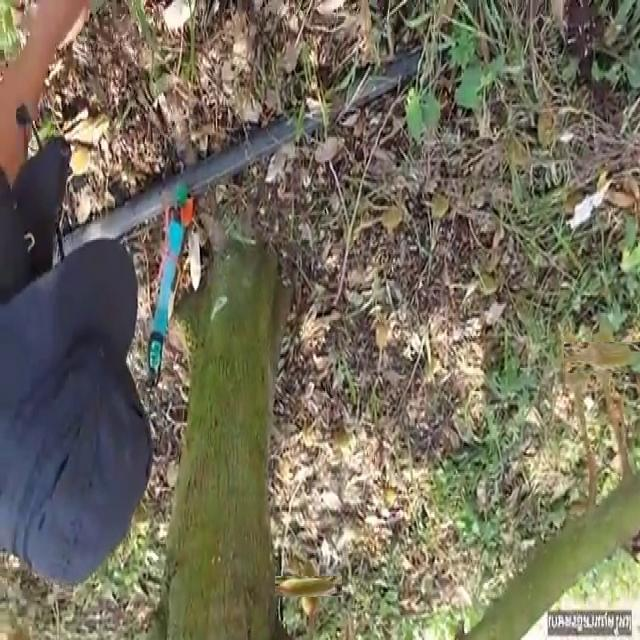durian: (576, 330, 634, 386), (560, 322, 590, 400), (286, 564, 332, 609)
